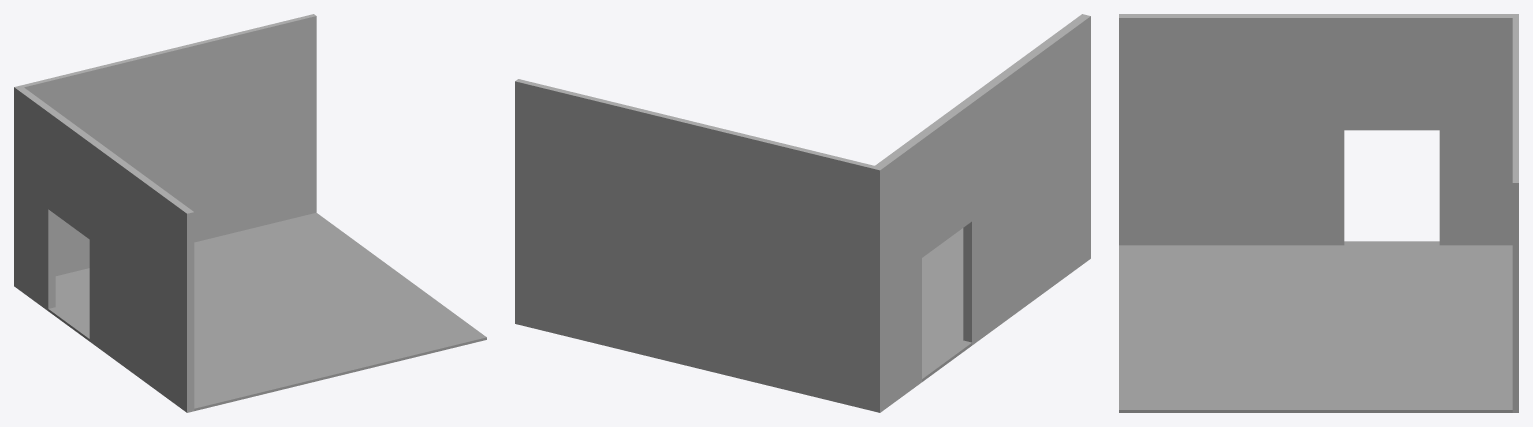
File: 4x2 first (2)-4.obj
The picture shows the model from 3 angles, left to right: view 1: azimuth 30°, elevation 25°; view 2: azimuth 150°, elevation 25°; view 3: azimuth 270°, elevation 25°; orthographic projection. The views are drawn at different scales.
Parts seen in each view (by area): view 1: 4x2 first (2)-4; view 2: 4x2 first (2)-4; view 3: 4x2 first (2)-4.
Part boxes in pixels (left/top/right/bottom): 4x2 first (2)-4: left=14, top=14, right=486, bottom=412; 4x2 first (2)-4: left=515, top=14, right=1090, bottom=412; 4x2 first (2)-4: left=1119, top=14, right=1518, bottom=412.
Size of the model in its own units: 126 by 80 by 126.
1 material, 1 textured.
